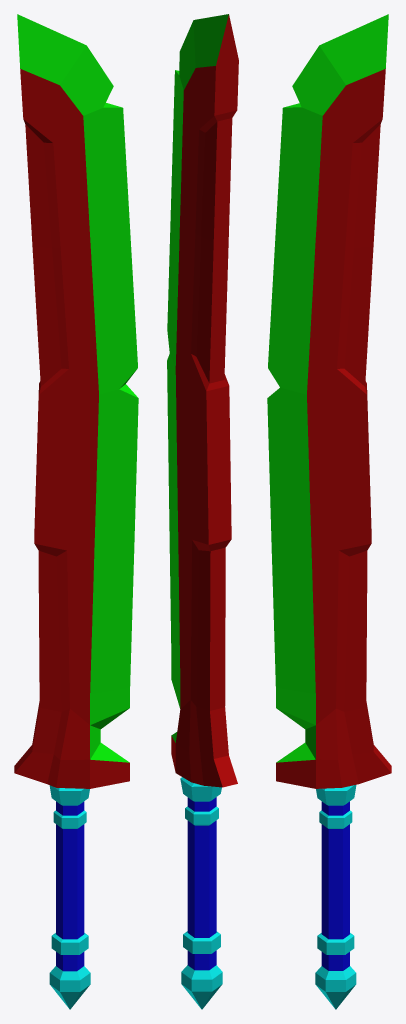
The model's file is Greatsword_Common_Machete.fbx.
3 views of the same model, side by side, from view 1: azimuth 90°, elevation 25°; view 2: azimuth 210°, elevation 25°; view 3: azimuth 270°, elevation 25° (orthographic).
Visible parts, largest first — view 1: SM_Wep_Sword_Large_01; view 2: SM_Wep_Sword_Large_01; view 3: SM_Wep_Sword_Large_01.
Boxes of the visible parts, bbox=[...] form: SM_Wep_Sword_Large_01: bbox=[14, 14, 138, 1009]; SM_Wep_Sword_Large_01: bbox=[167, 14, 238, 1009]; SM_Wep_Sword_Large_01: bbox=[267, 14, 391, 1009].
Bounding box in the file's own units: 5.5 × 166 × 18.77.
